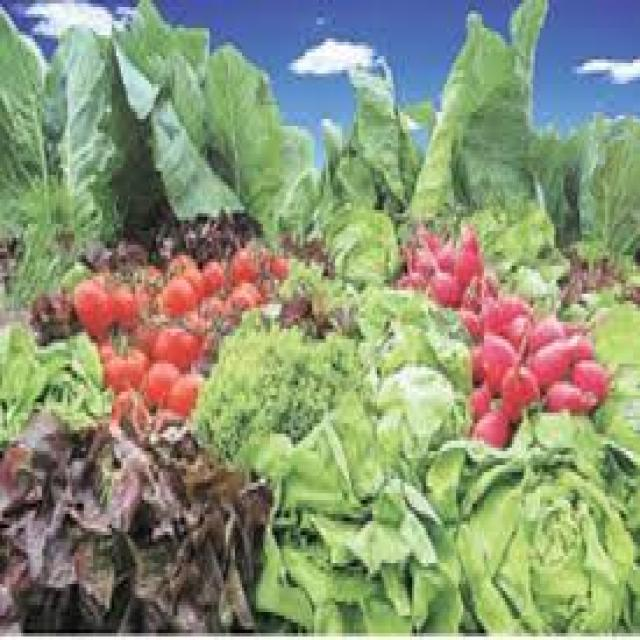organic waste: (0, 409, 265, 636), (256, 364, 461, 636), (421, 406, 638, 636), (114, 0, 277, 252), (396, 0, 552, 238), (0, 7, 114, 283), (189, 301, 349, 465), (351, 283, 468, 448), (0, 318, 107, 430), (561, 283, 638, 437), (575, 109, 638, 248), (352, 80, 416, 200), (528, 122, 580, 245), (484, 231, 563, 311), (318, 199, 396, 280), (321, 115, 375, 203), (500, 325, 538, 423), (282, 122, 316, 231), (526, 332, 589, 378), (470, 325, 514, 388), (70, 280, 109, 339), (100, 343, 144, 388), (472, 406, 522, 444), (98, 269, 132, 322), (152, 325, 196, 364), (570, 356, 610, 398), (156, 367, 195, 409), (540, 374, 579, 413), (454, 217, 479, 276), (158, 273, 193, 315), (165, 252, 200, 294), (142, 360, 177, 402), (528, 311, 586, 336), (130, 259, 161, 304), (128, 318, 158, 357), (463, 367, 487, 413), (426, 270, 458, 304), (447, 304, 477, 339), (477, 294, 500, 336), (437, 227, 454, 280), (226, 276, 258, 304), (461, 270, 482, 312), (402, 242, 433, 270), (226, 248, 256, 276), (503, 315, 528, 346), (200, 256, 219, 290), (396, 269, 428, 287), (500, 298, 526, 318), (254, 241, 270, 273), (580, 384, 598, 412), (270, 252, 286, 280), (414, 224, 431, 238), (482, 273, 491, 294), (430, 238, 440, 248)
